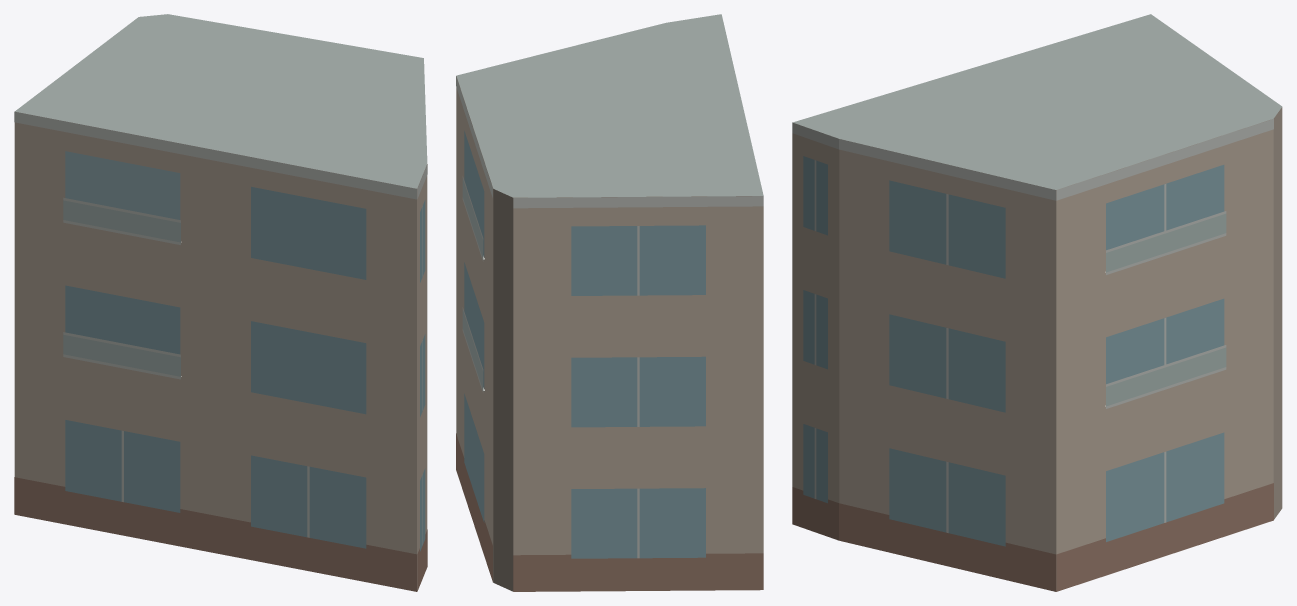
File: survey-upis-32465322.glb
3 views of the same model, side by side, from view 1: azimuth 30°, elevation 25°; view 2: azimuth 150°, elevation 25°; view 3: azimuth 270°, elevation 25° (orthographic). The views are drawn at different scales.
Parts seen in each view (by area): view 1: survey-upis-32465322.tmp; view 2: survey-upis-32465322.tmp; view 3: survey-upis-32465322.tmp.
Part boxes in pixels (x1,y1,x2,y2): survey-upis-32465322.tmp: [14, 14, 427, 591]; survey-upis-32465322.tmp: [456, 14, 763, 591]; survey-upis-32465322.tmp: [792, 14, 1282, 591].
Bounding box in the file's own units: 8.61 × 9.15 × 10.12.
